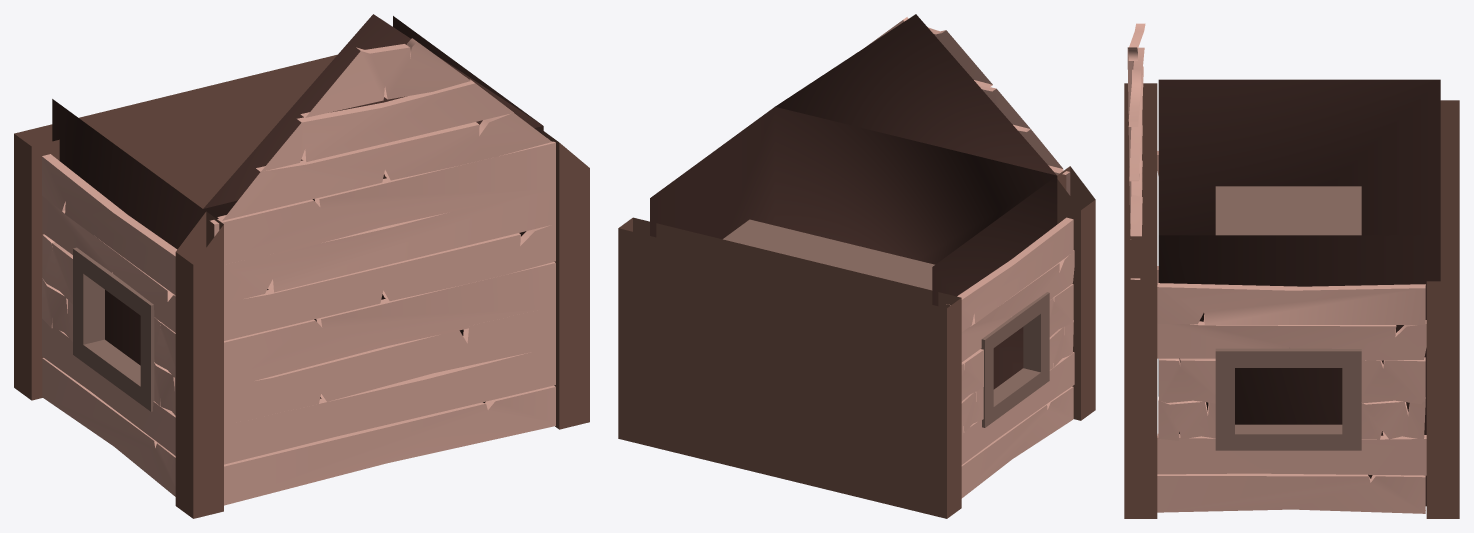
Rendered from Building_Wall_004.glb.
The picture shows the model from 3 angles, left to right: view 1: azimuth 30°, elevation 25°; view 2: azimuth 150°, elevation 25°; view 3: azimuth 270°, elevation 25°; orthographic projection. The views are drawn at different scales.
Parts seen in each view (by area): view 1: Building_Wall_004; view 2: Building_Wall_004; view 3: Building_Wall_004.
Part boxes in pixels (left/top/right/bottom): Building_Wall_004: left=14, top=14, right=589, bottom=518; Building_Wall_004: left=618, top=14, right=1095, bottom=518; Building_Wall_004: left=1124, top=23, right=1459, bottom=518.
Bounding box in the file's own units: 7.12 × 7.61 × 5.58.
1 material, 1 textured.
